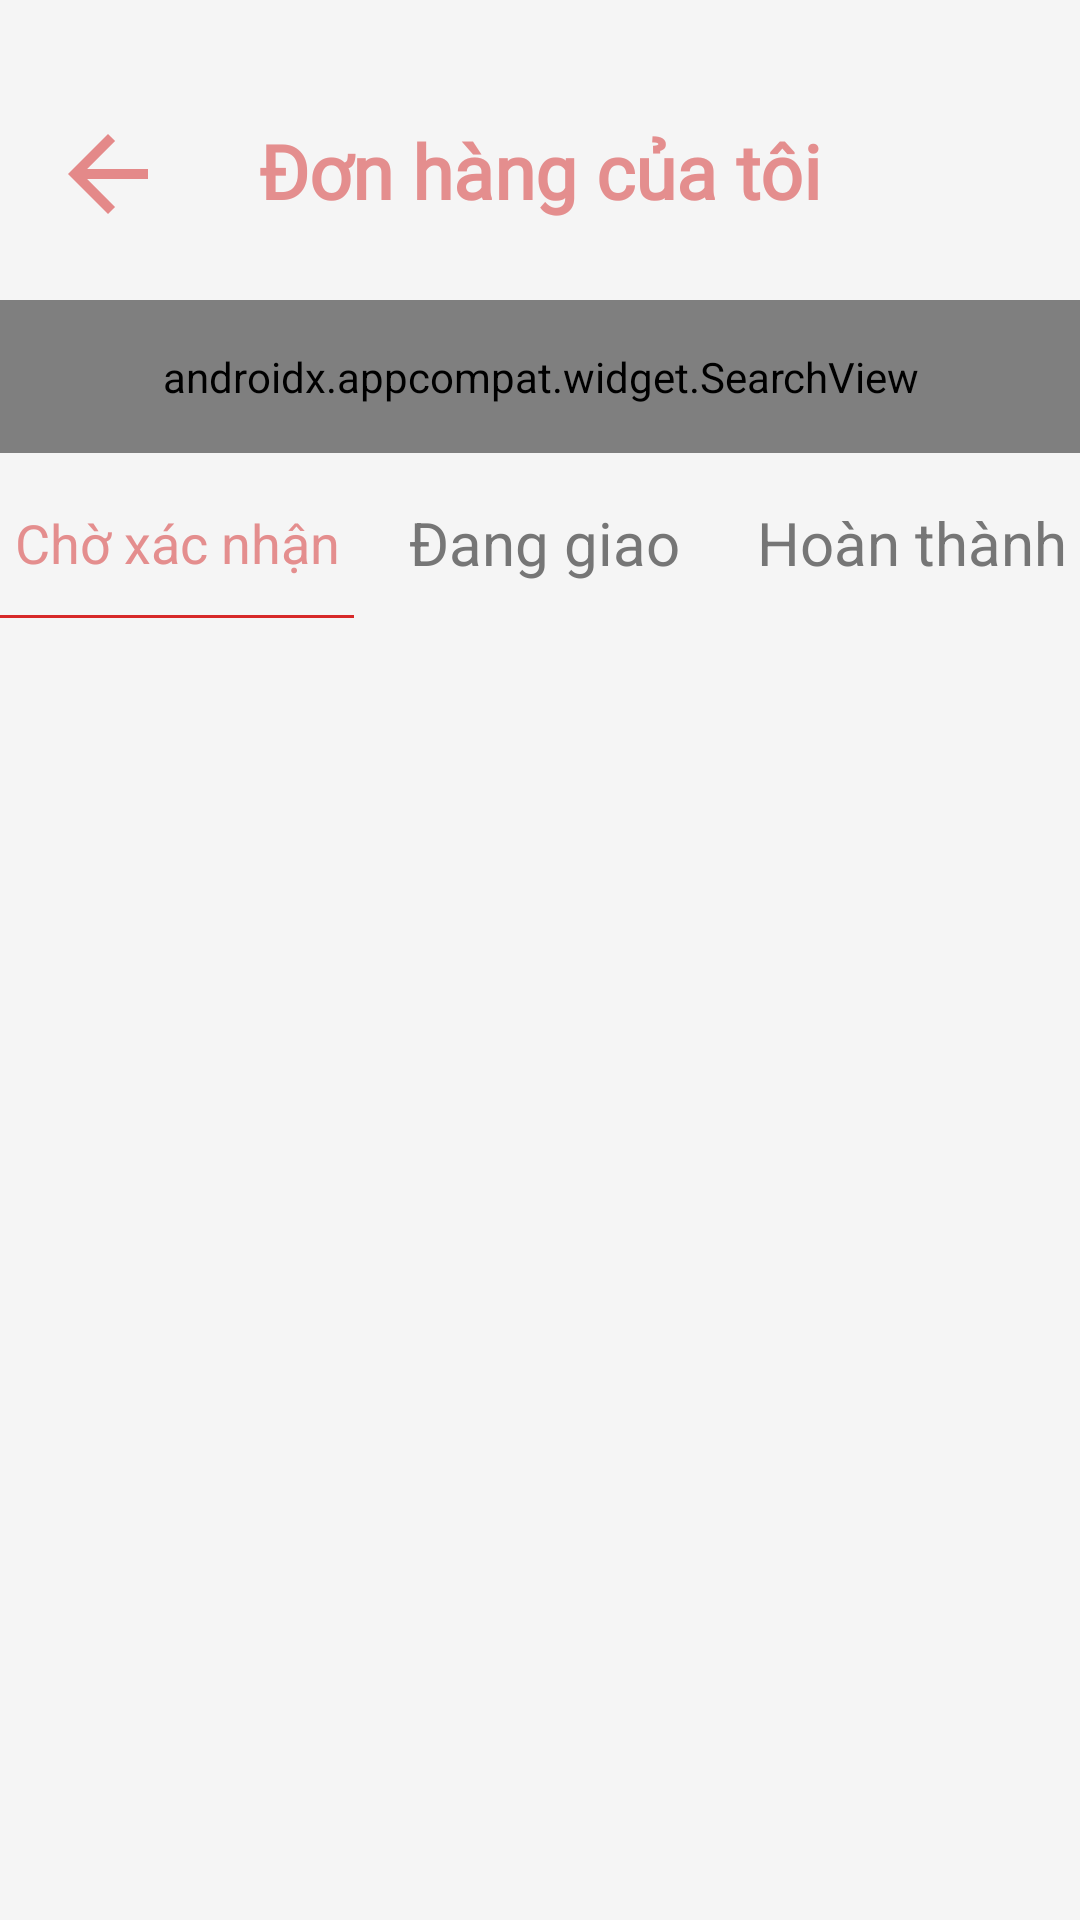

Point at icon controls on the screen. Image size 1080x1920, points as (x=x, y=y).
arrow back: (x=108, y=174)
